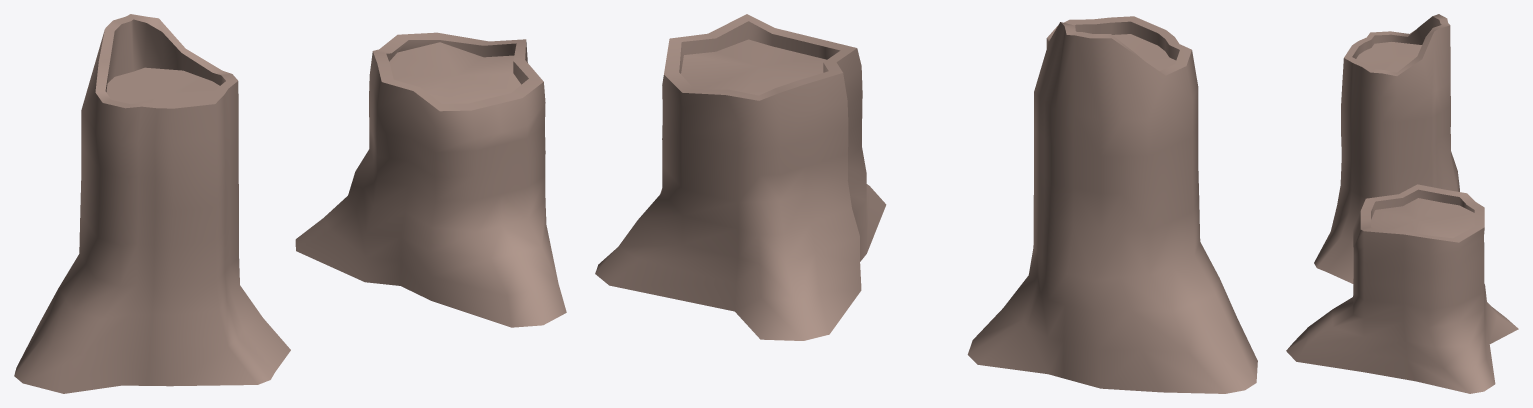
The model's file is TroncosCortos.fbx.
3 views of the same model, side by side, from view 1: azimuth 30°, elevation 25°; view 2: azimuth 150°, elevation 25°; view 3: azimuth 270°, elevation 25° (orthographic). The views are drawn at different scales.
Parts seen in each view (by area): view 1: TroncoCorto_1, TroncoCorto_2; view 2: TroncoCorto_1, TroncoCorto_2; view 3: TroncoCorto_2, TroncoCorto_1.
Boxes of the visible parts, bbox=[...] form: TroncoCorto_1: bbox=[14, 14, 290, 393]; TroncoCorto_2: bbox=[295, 32, 566, 327]; TroncoCorto_1: bbox=[967, 16, 1257, 393]; TroncoCorto_2: bbox=[595, 14, 886, 340]; TroncoCorto_2: bbox=[1286, 184, 1518, 393]; TroncoCorto_1: bbox=[1314, 14, 1459, 283].
Bounding box in the file's own units: 7.1 × 3.77 × 3.52.
